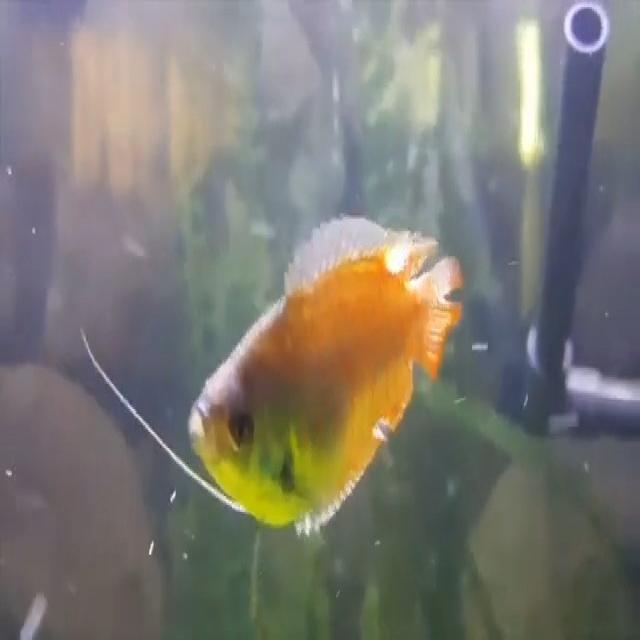fish: (187, 209, 464, 536)
